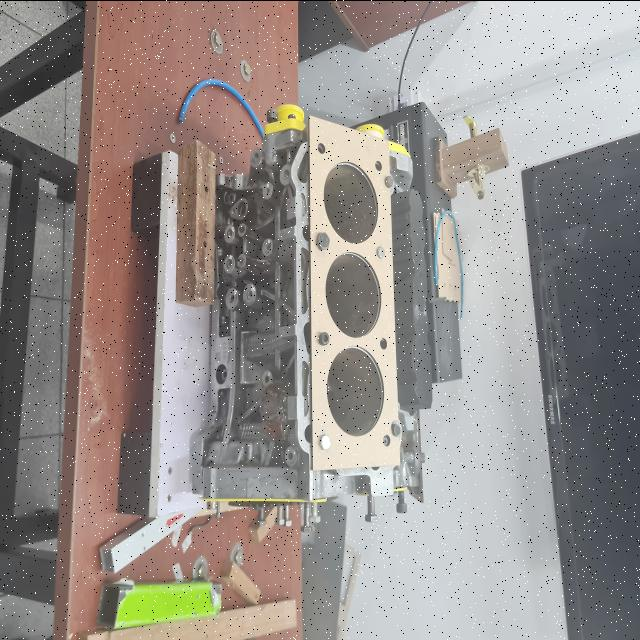vista1: (309, 114, 400, 471)
